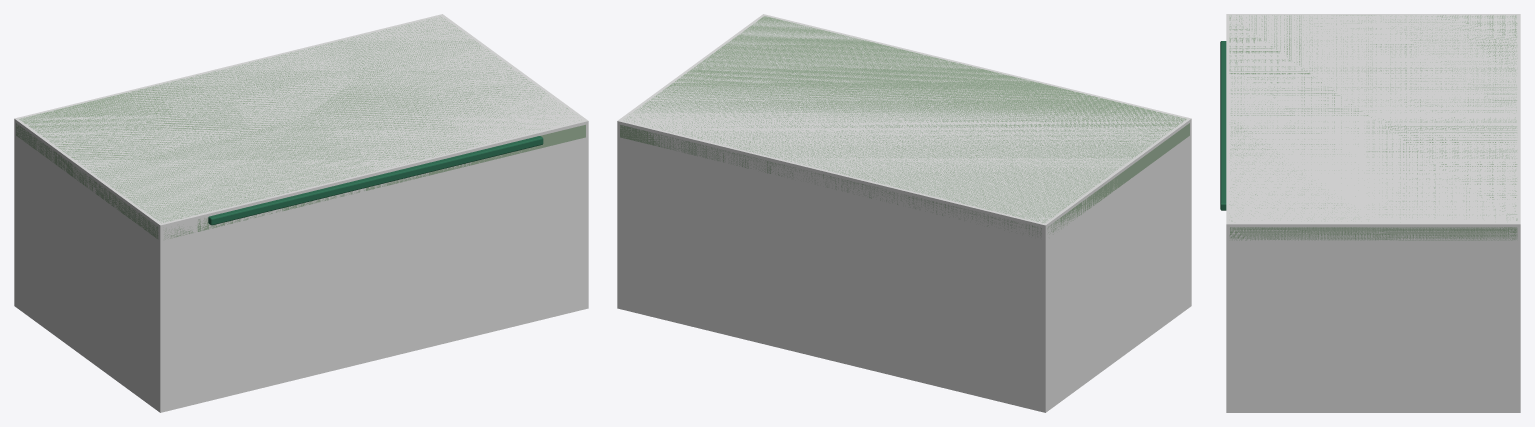
File: coffee-table_retail.glb
The picture shows the model from 3 angles, left to right: view 1: azimuth 30°, elevation 25°; view 2: azimuth 150°, elevation 25°; view 3: azimuth 270°, elevation 25°; orthographic projection.
Parts seen in each view (by area): view 1: COL_coffee-table, MESH_Top, MESH_TierTrim_01; view 2: COL_coffee-table, MESH_Top; view 3: COL_coffee-table, MESH_Top, MESH_TierTrim_01.
Part boxes in pixels (x1,y1,x2,y2): COL_coffee-table: (14,14,588,412); MESH_Top: (16,16,585,239); MESH_TierTrim_01: (208,136,543,225); COL_coffee-table: (617,14,1191,412); MESH_Top: (620,16,1189,236); COL_coffee-table: (1226,14,1520,412); MESH_Top: (1229,15,1517,240); MESH_TierTrim_01: (1220,41,1226,210).
Size of the model in its own units: 1.1 by 0.46 by 0.663.
